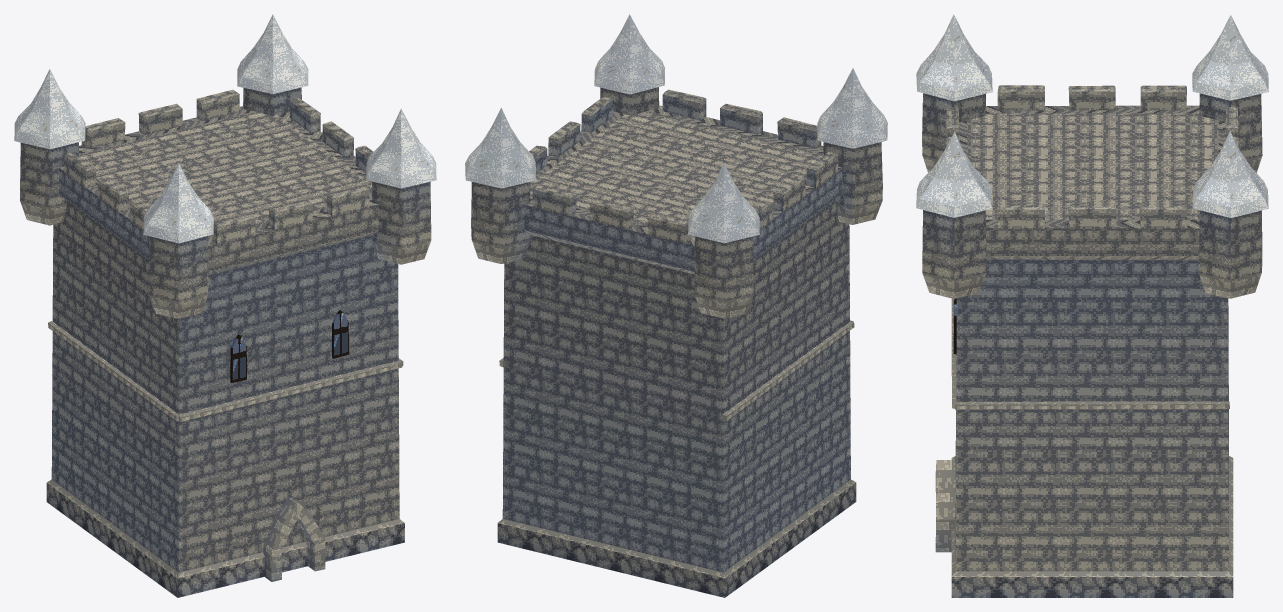
The model's file is cst.keep.glb.
The picture shows the model from 3 angles, left to right: view 1: azimuth 30°, elevation 25°; view 2: azimuth 150°, elevation 25°; view 3: azimuth 270°, elevation 25°; orthographic projection. The views are drawn at different scales.
Parts seen in each view (by area): view 1: kit_walls, kit_top, kit_detail; view 2: kit_walls, kit_top, kit_detail; view 3: kit_walls, kit_top, kit_detail.
Boxes of the visible parts, bbox=[...] form: kit_walls: bbox=[46, 201, 404, 597]; kit_top: bbox=[14, 14, 436, 318]; kit_detail: bbox=[48, 310, 403, 581]; kit_walls: bbox=[497, 200, 856, 597]; kit_top: bbox=[465, 14, 887, 318]; kit_detail: bbox=[499, 320, 854, 421]; kit_walls: bbox=[951, 259, 1233, 597]; kit_top: bbox=[916, 14, 1268, 298]; kit_detail: bbox=[935, 298, 1229, 552].
Size of the model in its own units: 13.33 by 18.81 by 12.9.
Materials: 6 (6 with a texture image).
